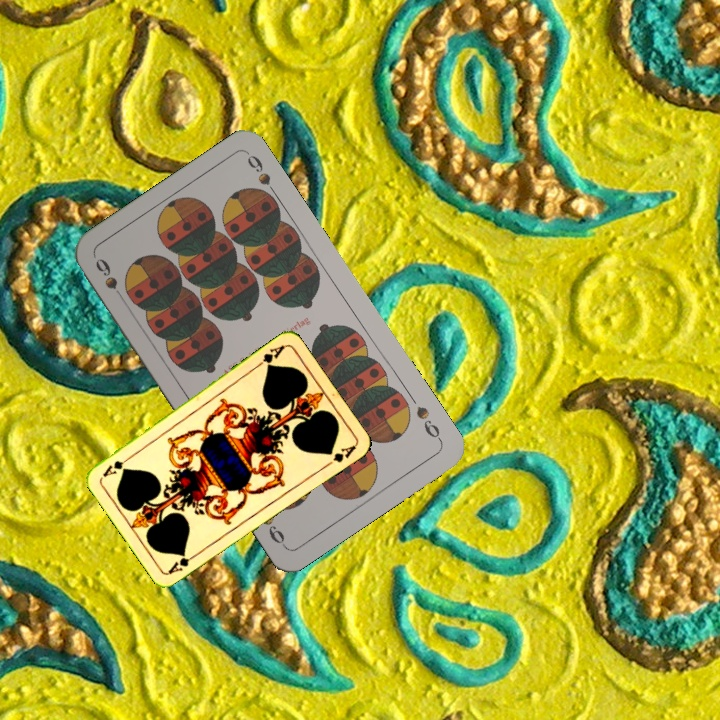GA: (164, 548, 201, 577), (252, 341, 287, 371)
S9: (91, 254, 130, 307), (412, 401, 445, 444)
